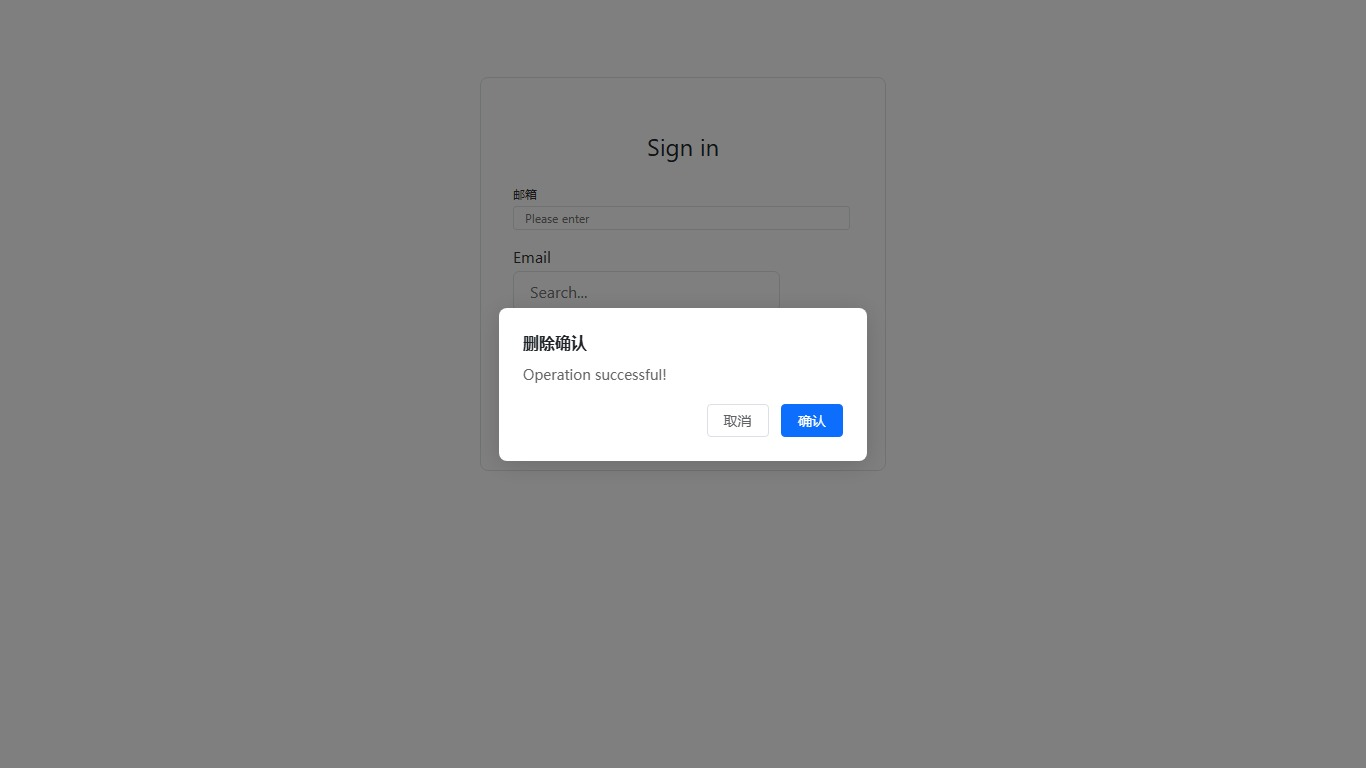button: (513, 365, 581, 405), (707, 403, 769, 437), (781, 403, 843, 437)
checkbox: (513, 329, 529, 345)
icon: (537, 327, 583, 346)
input: (513, 271, 780, 311), (513, 206, 850, 230)
link: (655, 419, 711, 438)
modal: (0, 0, 1366, 768)
radio: (513, 327, 583, 346)
